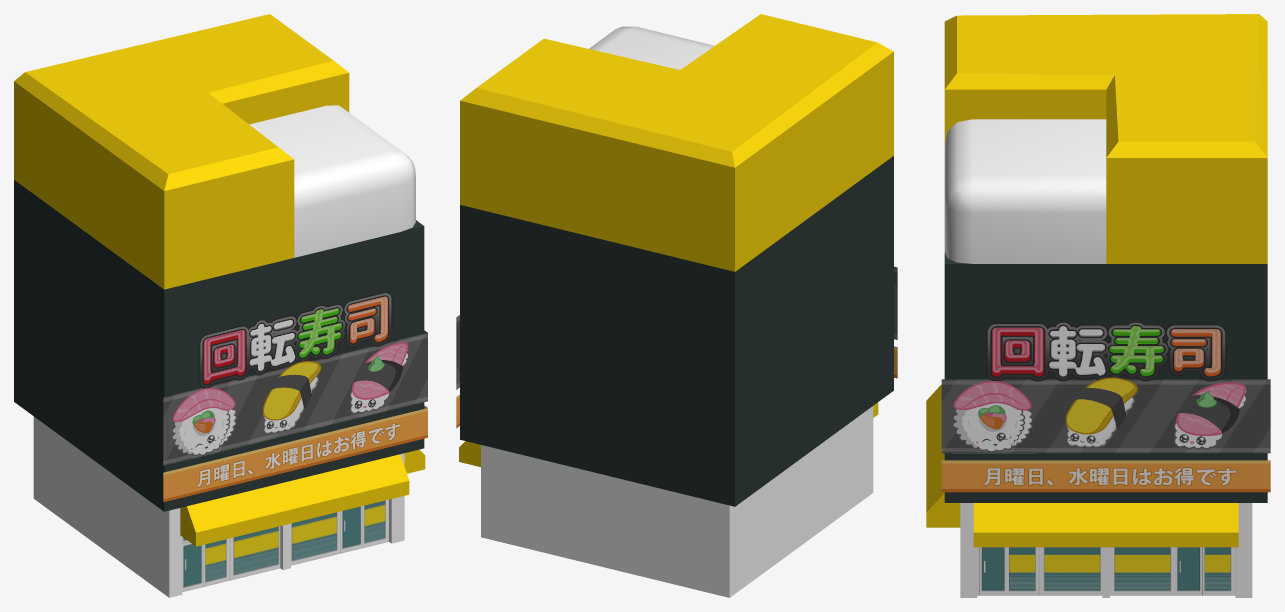
Rendered from Town_Bld_Sushi_B.FBX.
The picture shows the model from 3 angles, left to right: view 1: azimuth 30°, elevation 25°; view 2: azimuth 150°, elevation 25°; view 3: azimuth 270°, elevation 25°; orthographic projection. The views are drawn at different scales.
Parts seen in each view (by area): view 1: Town_Bld_Sushi_B; view 2: Town_Bld_Sushi_B; view 3: Town_Bld_Sushi_B.
Part boxes in pixels (x1,y1,x2,y2): Town_Bld_Sushi_B: [14, 14, 427, 597]; Town_Bld_Sushi_B: [456, 14, 897, 597]; Town_Bld_Sushi_B: [926, 14, 1270, 597].
Size of the model in its own units: 706 by 1038 by 707.
